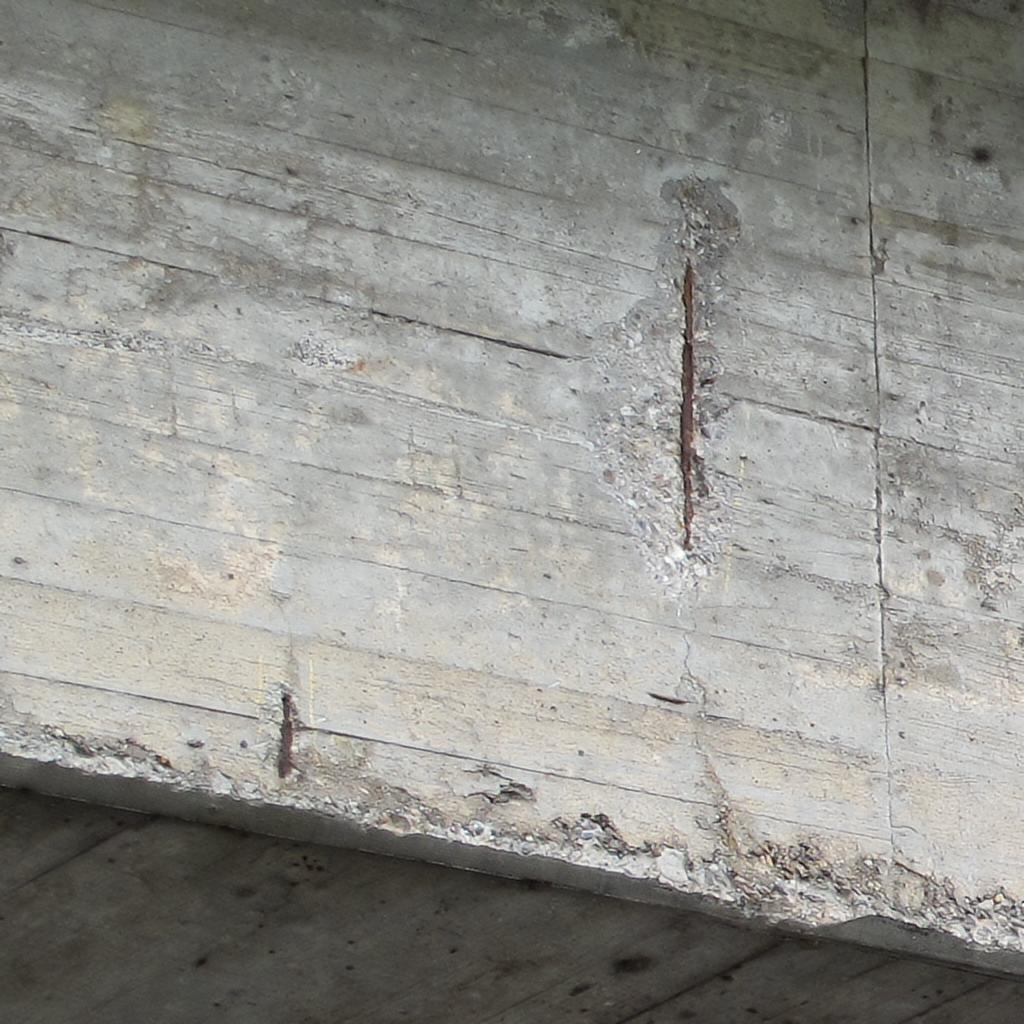exposed_rebar: (680, 262, 696, 550), (278, 692, 294, 777)
spalling: (594, 180, 740, 594), (274, 688, 298, 779)
